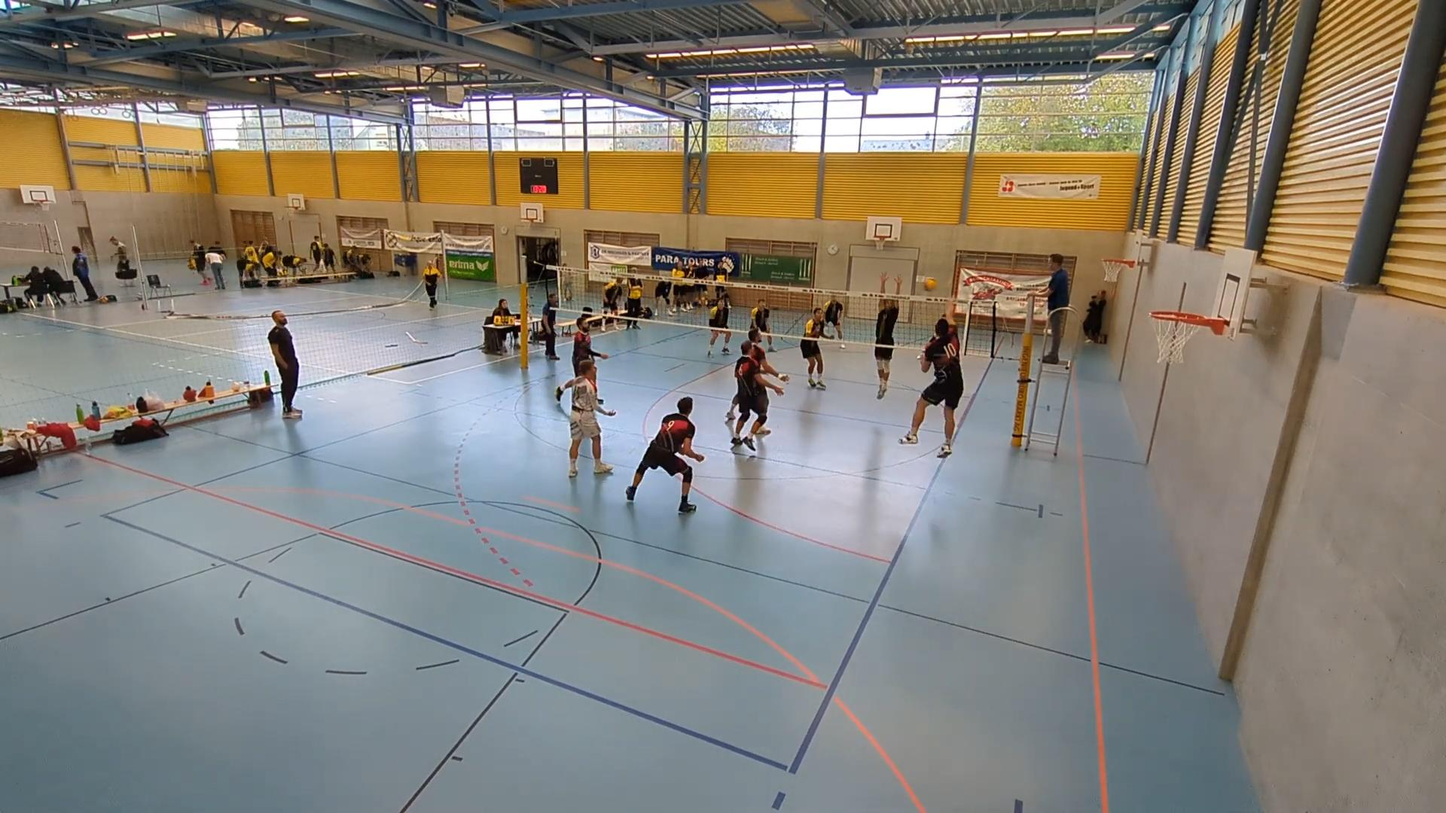attacco: (900, 297, 977, 453)
muro: (867, 266, 907, 415)
